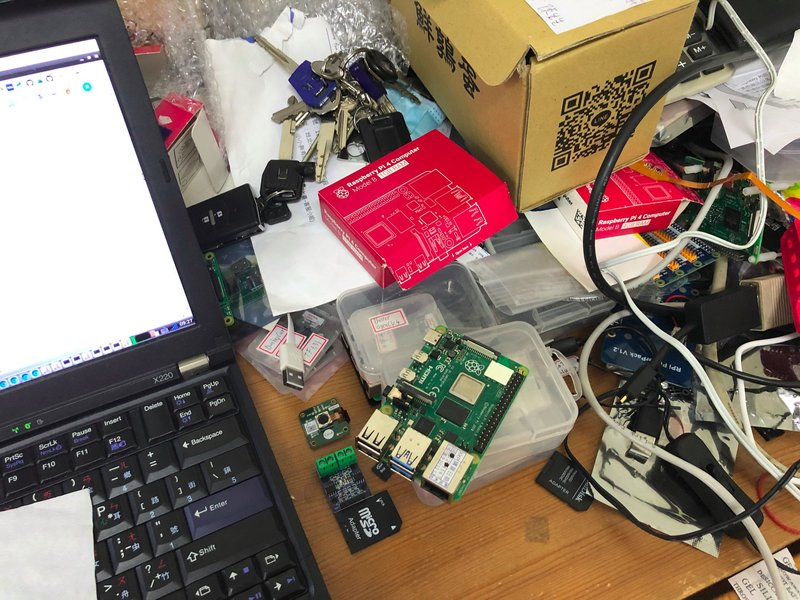pi: (352, 323, 531, 504)
